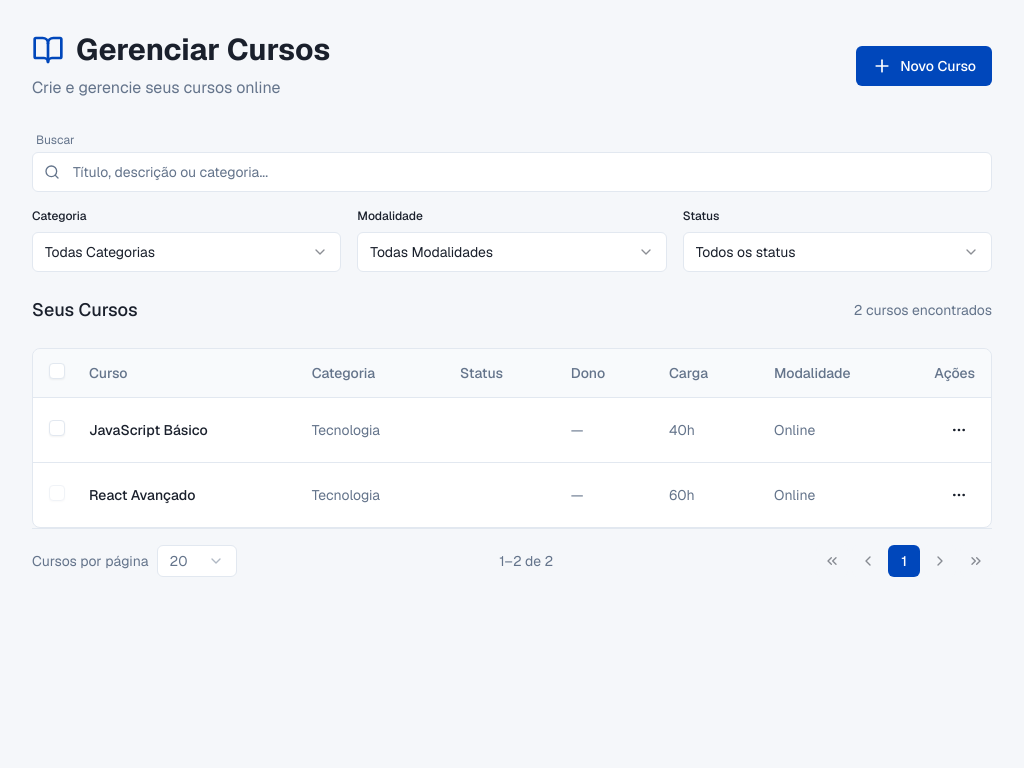
Test: Integration - Courses page › bulk selection and delete › clears the selection when a filter changes
Check: the text "JavaScript Básico" is shown, box [89,420,208,440]
Click the checkbox named "Selecionar JavaScript Básico" at (57, 428), box [49,420,65,436]
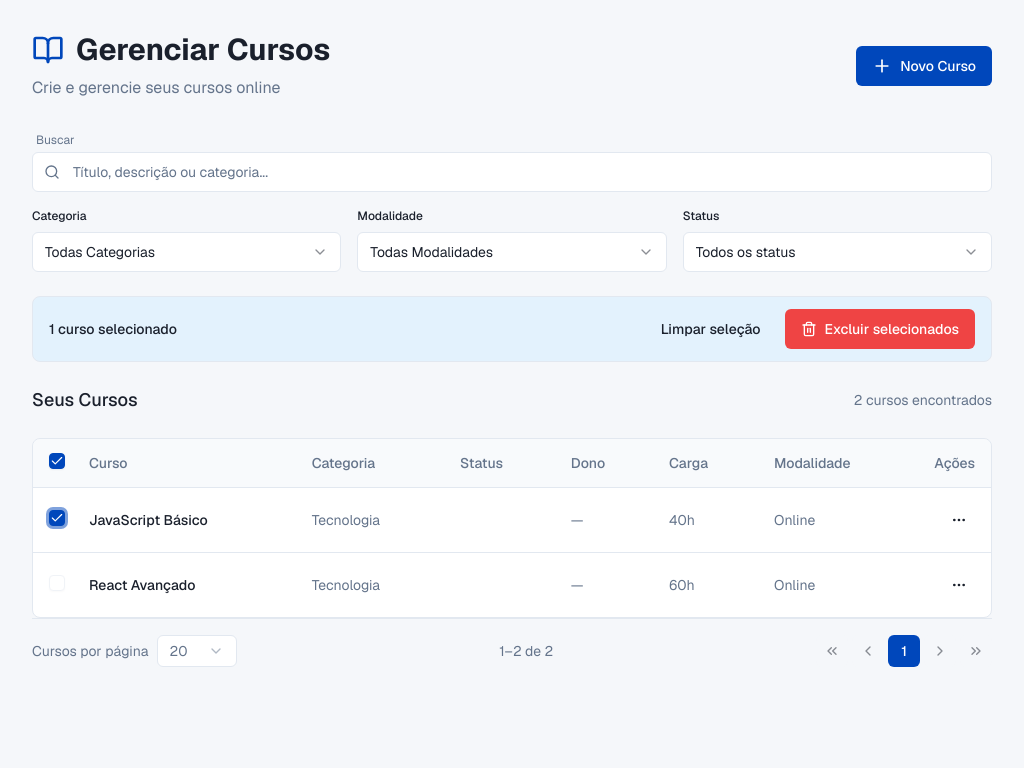
Check: the text "1 curso selecionado" is shown, box [49,319,177,339]
Click the dropdown labelled "Todas Categorias" at (100, 252), box [32,232,341,272]
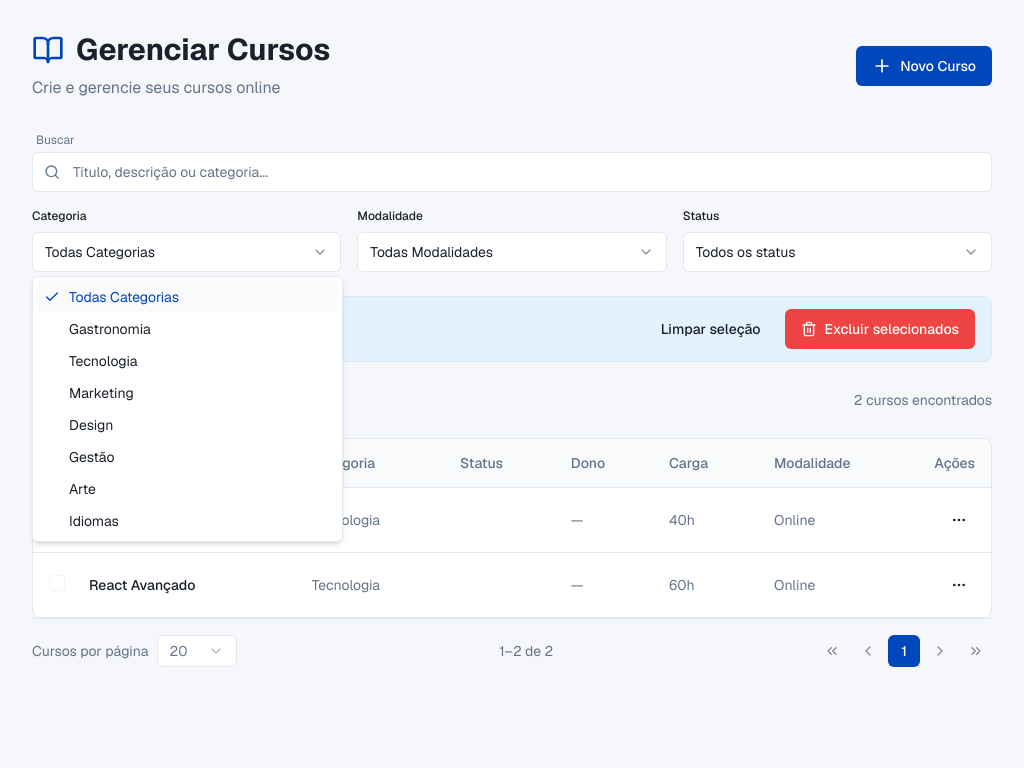
Click the option "Tecnologia" at (103, 361), box [69,352,137,370]
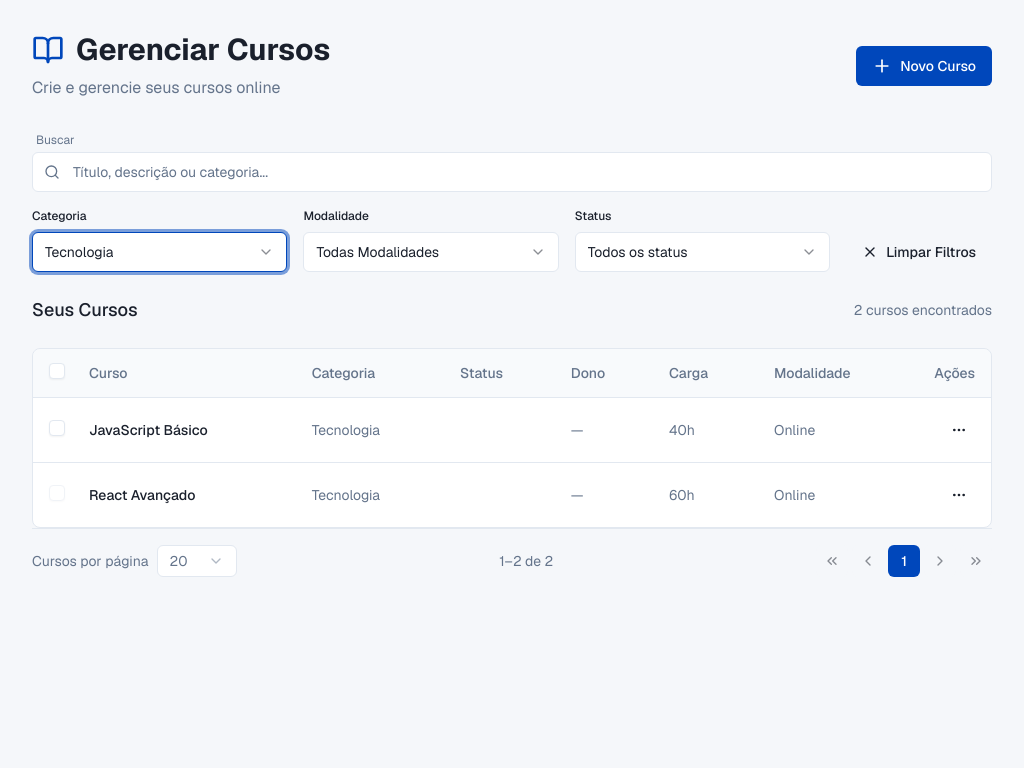
Check: the text "1 curso selecionado" is gone
